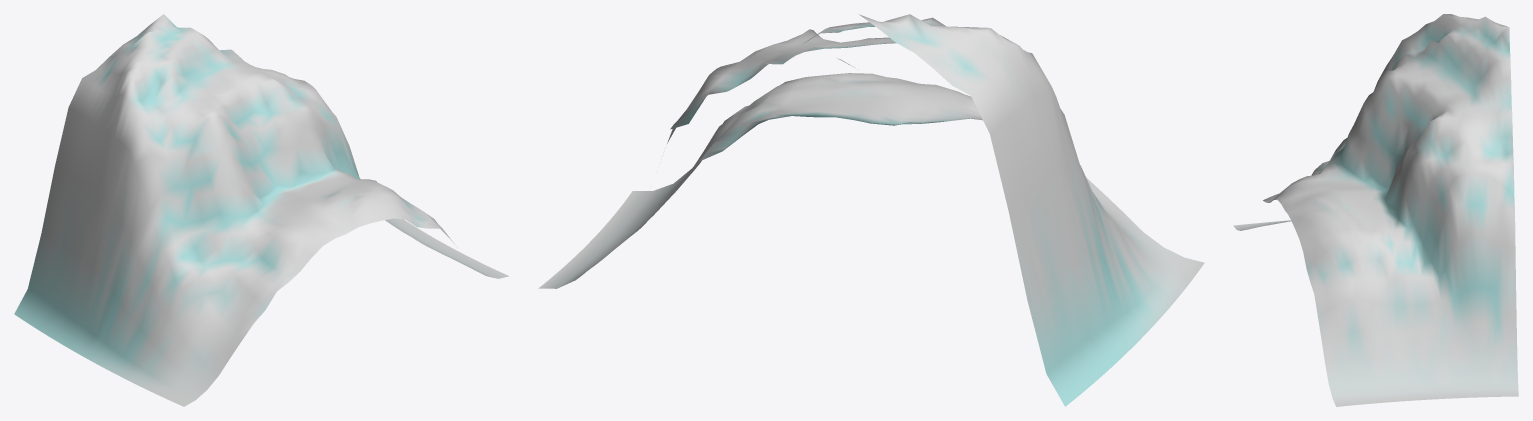
File: middle_1.glb
3 views of the same model, side by side, from view 1: azimuth 30°, elevation 25°; view 2: azimuth 150°, elevation 25°; view 3: azimuth 270°, elevation 25° (orthographic). The views are drawn at different scales.
Parts seen in each view (by area): view 1: Mountain; view 2: Mountain; view 3: Mountain.
Boxes of the visible parts, bbox=[...] form: Mountain: bbox=[14, 14, 509, 406]; Mountain: bbox=[538, 14, 1204, 406]; Mountain: bbox=[1233, 14, 1518, 406].
Bounding box in the file's own units: 633 × 384 × 388.
